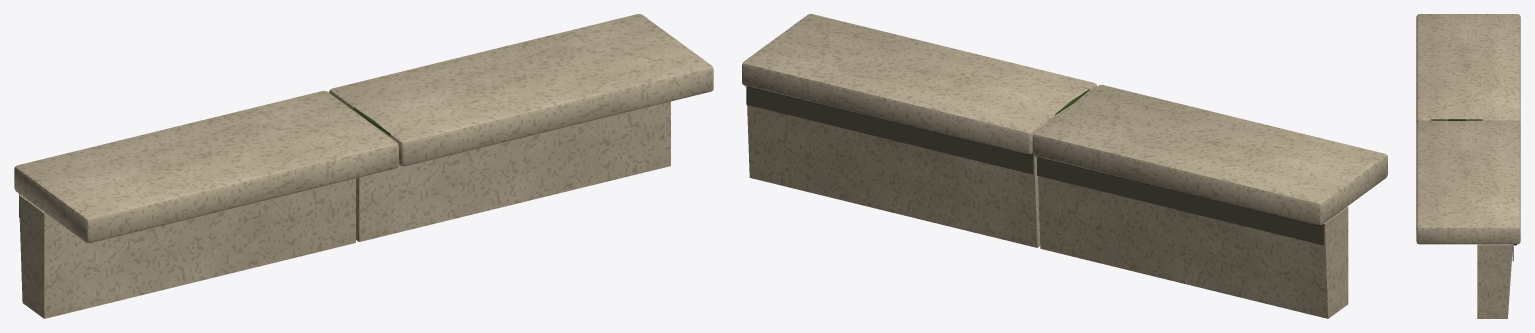
Rendered from water-coping-2m.lod0.glb.
The picture shows the model from 3 angles, left to right: view 1: azimuth 30°, elevation 25°; view 2: azimuth 150°, elevation 25°; view 3: azimuth 270°, elevation 25°; orthographic projection. The views are drawn at different scales.
Visible parts, largest first — view 1: water_coping_2m_Stone • warm limestone; view 2: water_coping_2m_Stone • warm limestone, water_coping_2m_Trim • places palette; view 3: water_coping_2m_Stone • warm limestone, water_coping_2m_Trim • places palette.
Boxes of the visible parts, x1,y1,x2,y2 form: water_coping_2m_Stone • warm limestone: (14,14,713,318); water_coping_2m_Stone • warm limestone: (742,14,1387,318); water_coping_2m_Trim • places palette: (746,86,1324,245); water_coping_2m_Stone • warm limestone: (1416,14,1520,318); water_coping_2m_Trim • places palette: (1431,119,1516,261).
Size of the model in its own units: 2 by 0.404 by 0.41.
2 materials, 2 textured.
